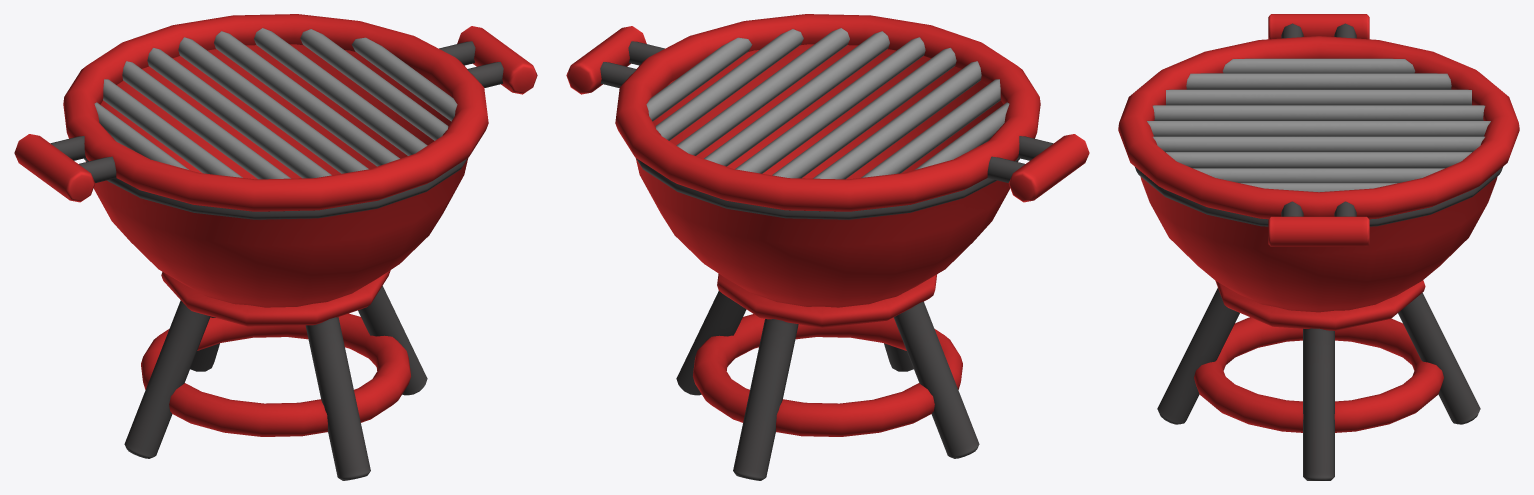
Rendered from barbecuegrill_red.fbx.
3 renders of one model, left to right at view 1: azimuth 30°, elevation 25°; view 2: azimuth 150°, elevation 25°; view 3: azimuth 270°, elevation 25°, orthographic. The views are drawn at different scales.
Parts seen in each view (by area): view 1: pCylinder23.001; view 2: pCylinder23.001; view 3: pCylinder23.001.
Boxes of the visible parts, x1=… form: pCylinder23.001: x1=14, y1=14, x2=537, y2=480; pCylinder23.001: x1=566, y1=14, x2=1089, y2=480; pCylinder23.001: x1=1118, y1=14, x2=1519, y2=480.
Size of the model in its own units: 1.36 by 0.9021 by 1.07.
